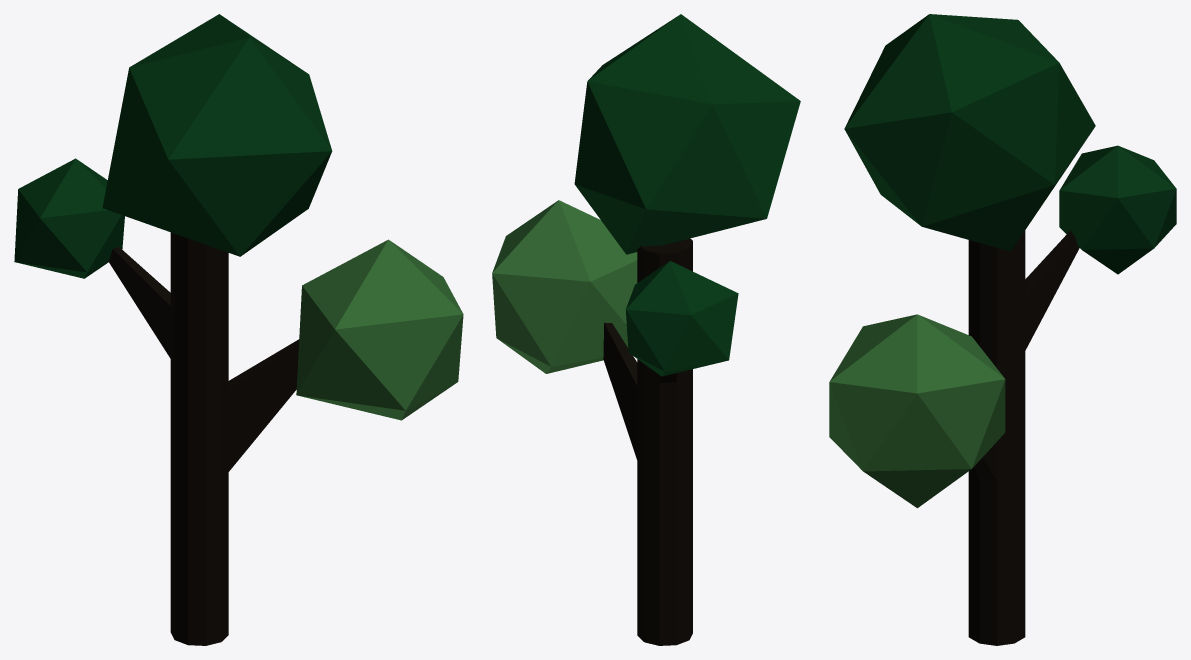
File: alice_tree3.FBX
3 renders of one model, left to right at view 1: azimuth 30°, elevation 25°; view 2: azimuth 150°, elevation 25°; view 3: azimuth 270°, elevation 25°, orthographic. The views are drawn at different scales.
Parts seen in each view (by area): view 1: GeoSphere002, Cylinder001, GeoSphere001, GeoSphere003; view 2: GeoSphere002, Cylinder001, GeoSphere001, GeoSphere003; view 3: GeoSphere002, GeoSphere001, Cylinder001, GeoSphere003.
Part boxes in pixels (<box>): GeoSphere002: <box>102,14,332,256</box>; Cylinder001: <box>108,232,299,645</box>; GeoSphere001: <box>296,239,463,420</box>; GeoSphere003: <box>14,158,124,278</box>; GeoSphere002: <box>574,14,800,254</box>; Cylinder001: <box>603,238,692,645</box>; GeoSphere001: <box>492,200,637,373</box>; GeoSphere003: <box>625,261,738,376</box>; GeoSphere002: <box>844,14,1095,251</box>; GeoSphere001: <box>829,314,1005,508</box>; Cylinder001: <box>968,230,1079,645</box>; GeoSphere003: <box>1059,145,1176,274</box>.
Bounding box in the file's own units: 285 × 507 × 254.
